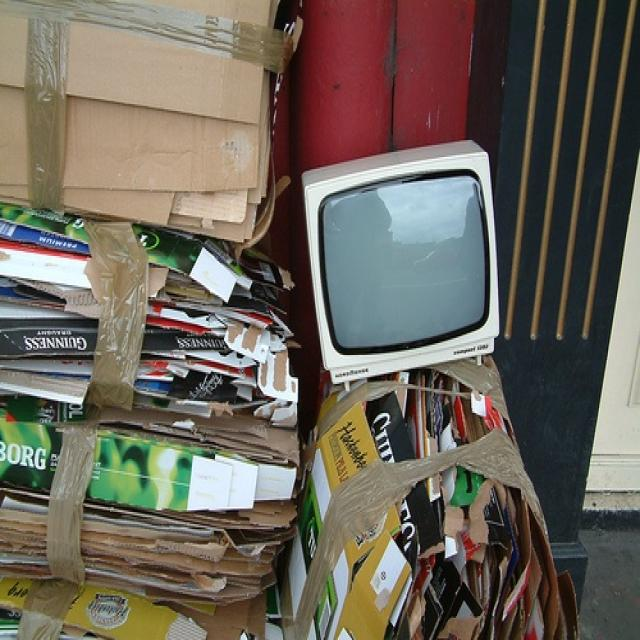tvmonitor: (300, 137, 503, 386)
